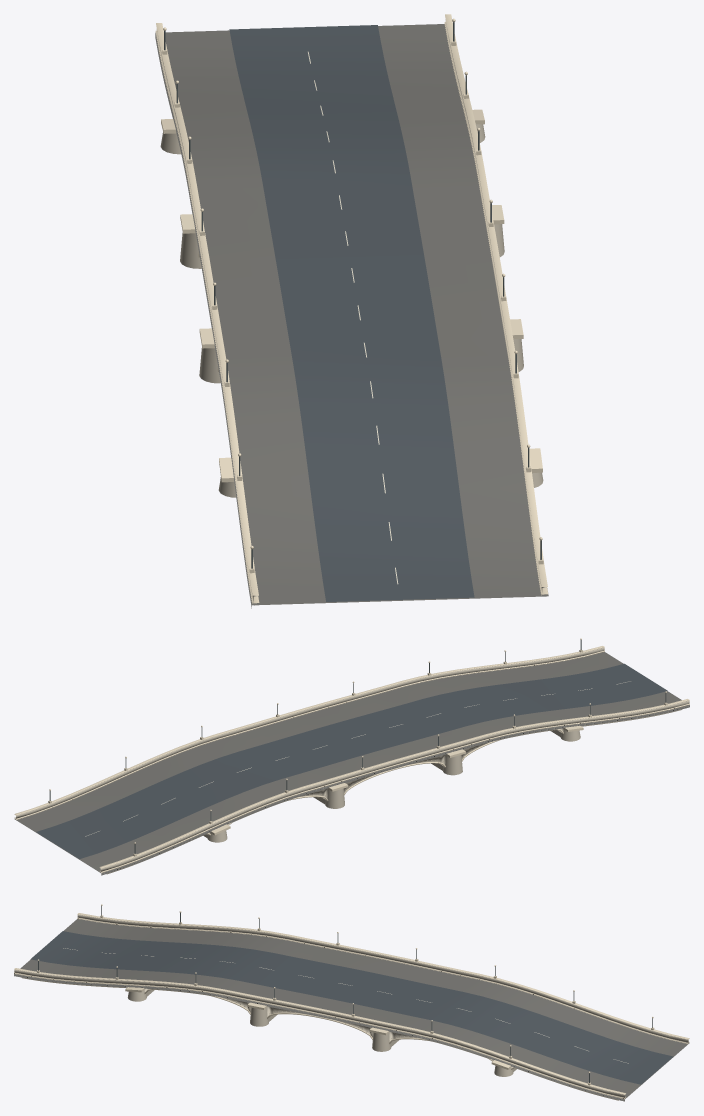
Rendered from paris-pont-concorde-near.glb.
3 renders of one model, top to bottom at view 1: azimuth 30°, elevation 25°; view 2: azimuth 150°, elevation 25°; view 3: azimuth 270°, elevation 25°, orthographic. The views are drawn at different scales.
Visible parts, largest first — view 1: paris-pont-concorde-asphalt, paris-pont-concorde-deck, paris-pont-concorde-trim, paris-pont-concorde-stone; view 2: paris-pont-concorde-asphalt, paris-pont-concorde-deck, paris-pont-concorde-trim, paris-pont-concorde-stone; view 3: paris-pont-concorde-asphalt, paris-pont-concorde-deck, paris-pont-concorde-trim, paris-pont-concorde-stone.
Boxes of the visible parts, <box> form: paris-pont-concorde-asphalt: <box>229,25,474,601</box>; paris-pont-concorde-deck: <box>155,24,548,608</box>; paris-pont-concorde-trim: <box>155,14,548,605</box>; paris-pont-concorde-stone: <box>156,20,546,602</box>; paris-pont-concorde-asphalt: <box>36,663,667,858</box>; paris-pont-concorde-deck: <box>14,652,689,875</box>; paris-pont-concorde-trim: <box>14,638,689,874</box>; paris-pont-concorde-stone: <box>15,647,689,871</box>; paris-pont-concorde-asphalt: <box>30,931,673,1084</box>; paris-pont-concorde-deck: <box>14,919,689,1101</box>; paris-pont-concorde-trim: <box>14,904,689,1100</box>; paris-pont-concorde-stone: <box>14,914,688,1097</box>.
Size of the model in its own units: 98.43 by 10.88 by 154.
